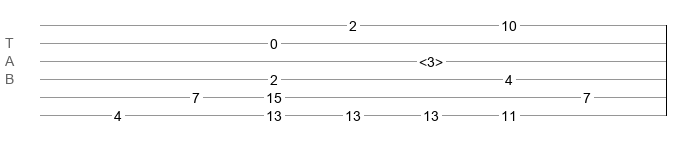0: (270, 36, 278, 46)
10: (501, 18, 517, 28)
11: (501, 108, 517, 118)
13: (266, 108, 282, 118), (345, 108, 361, 118), (423, 108, 439, 118)
15: (266, 90, 282, 100)
2: (270, 72, 278, 82), (349, 18, 357, 28)
4: (114, 108, 122, 118), (505, 72, 513, 82)
7: (192, 90, 200, 100), (583, 90, 591, 100)
harmonic: (419, 54, 443, 64)
